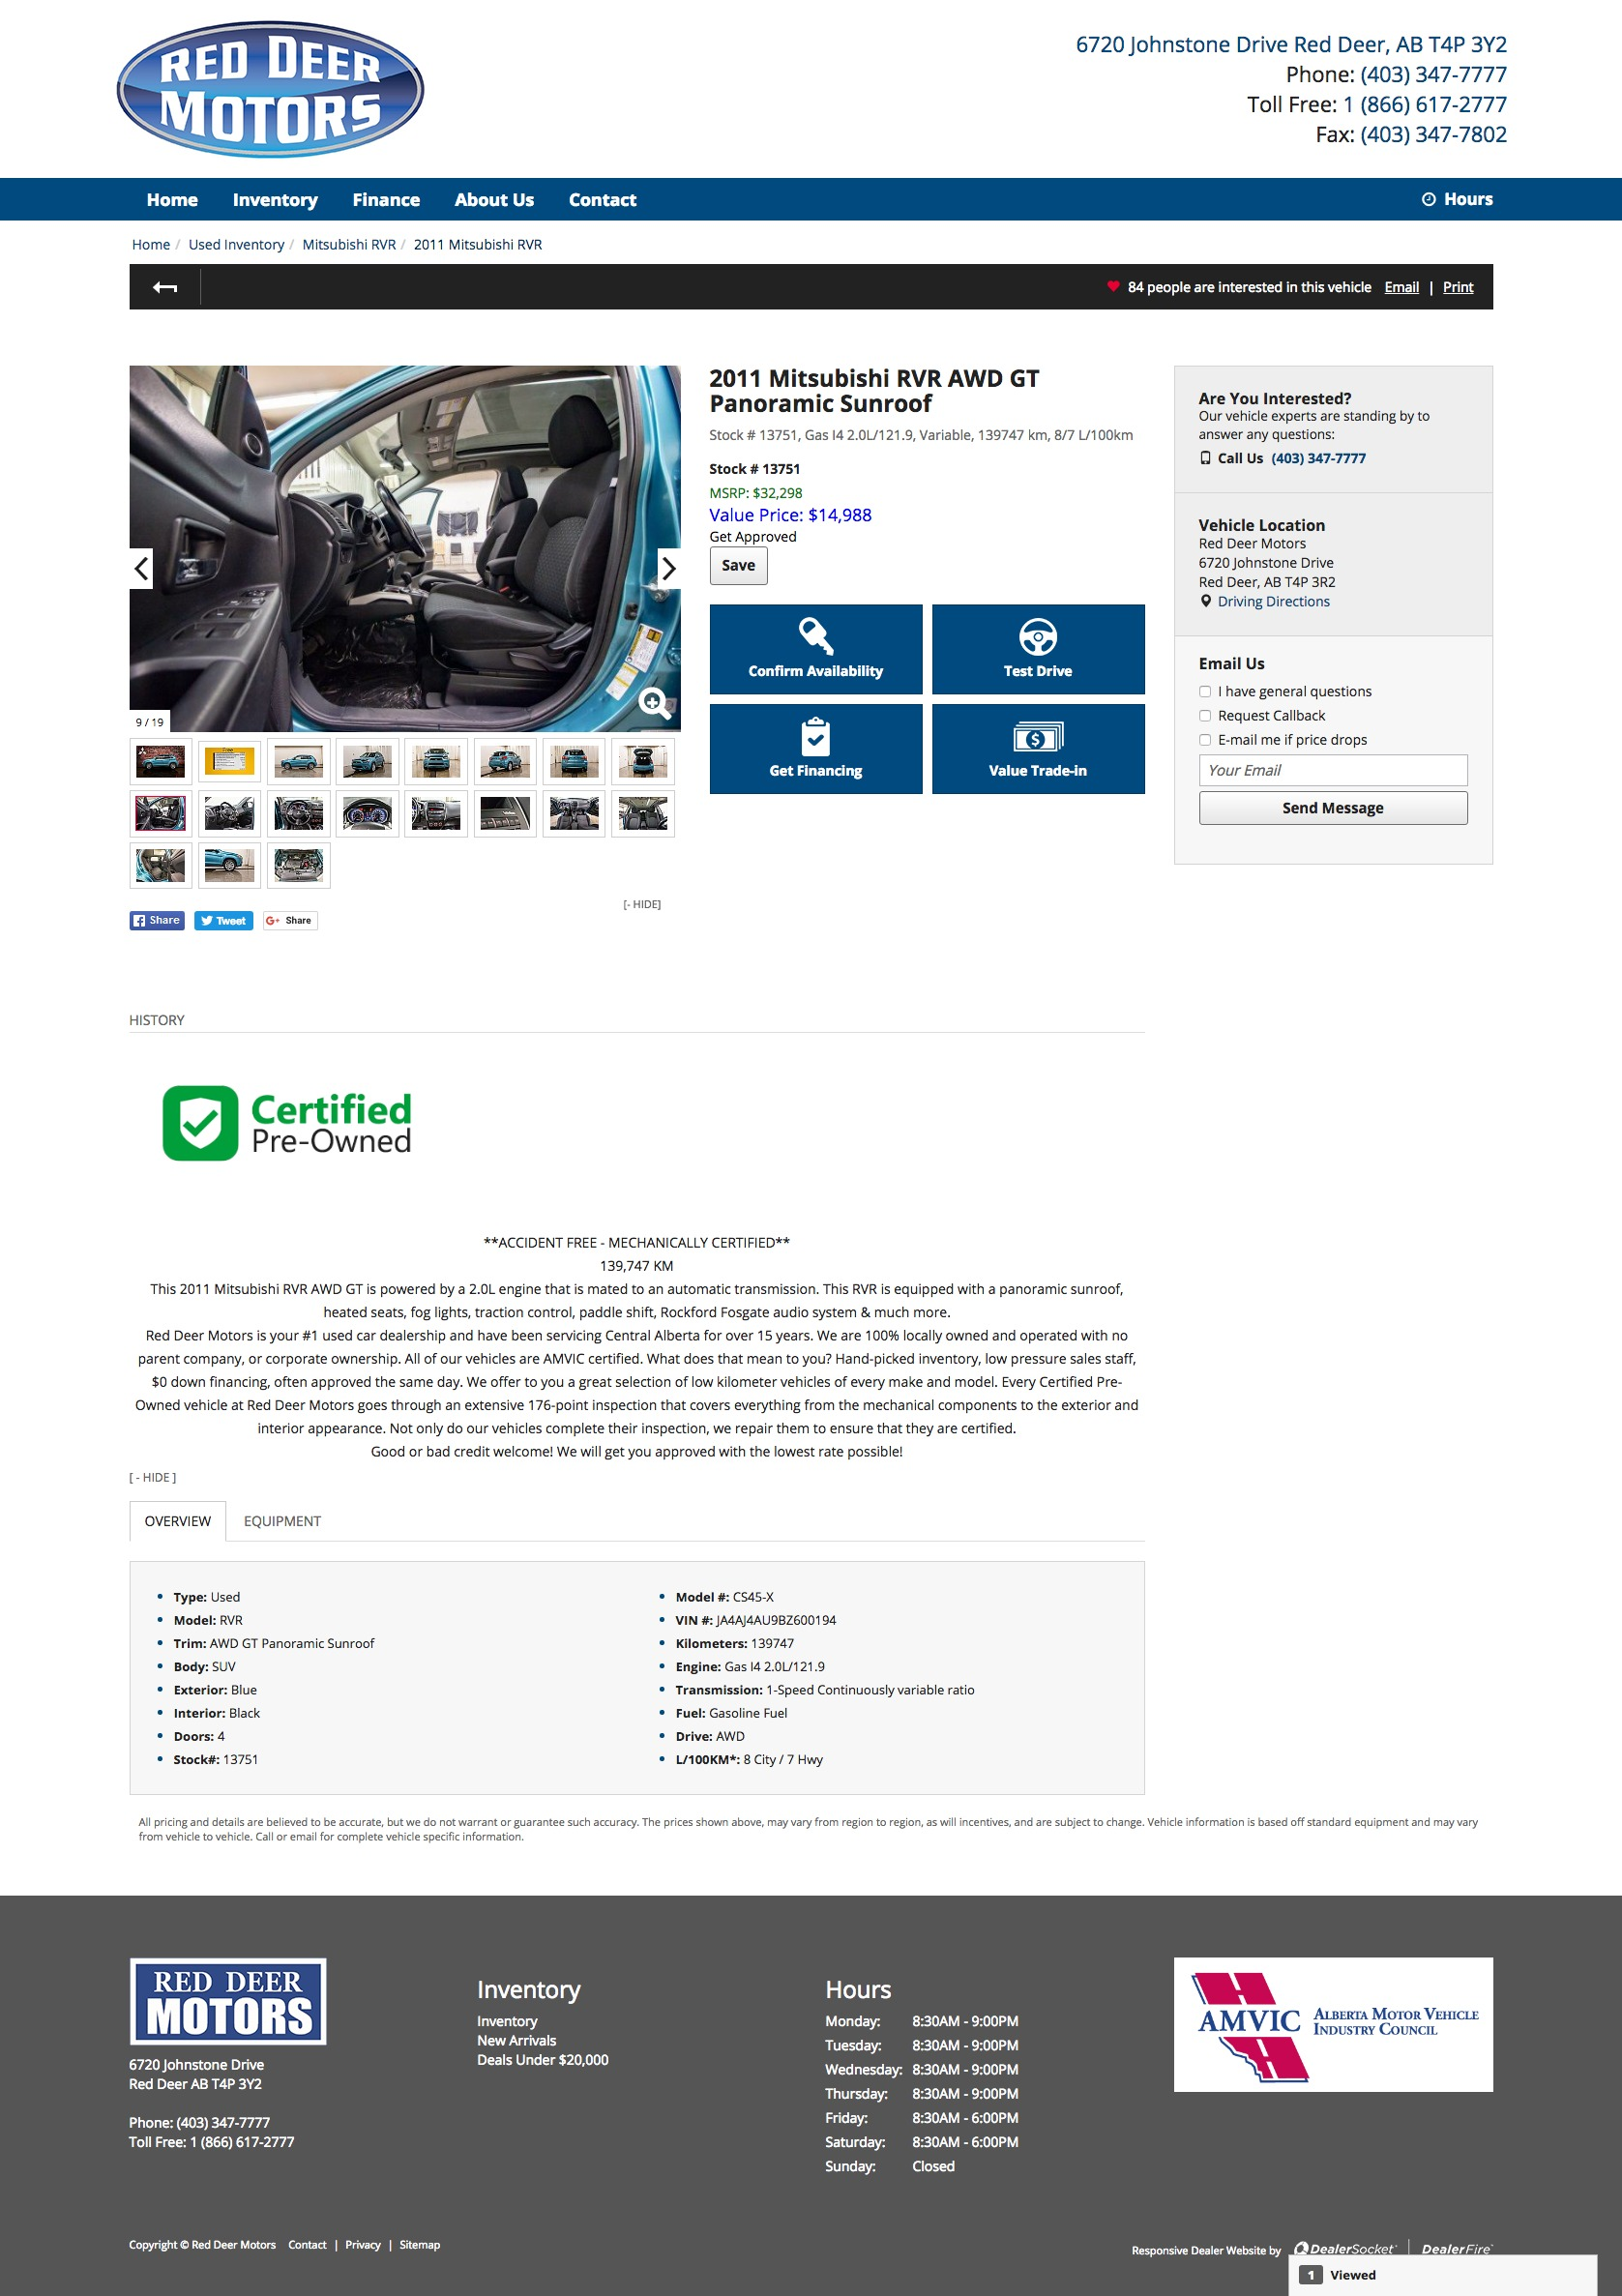car: (658, 548, 685, 592)
